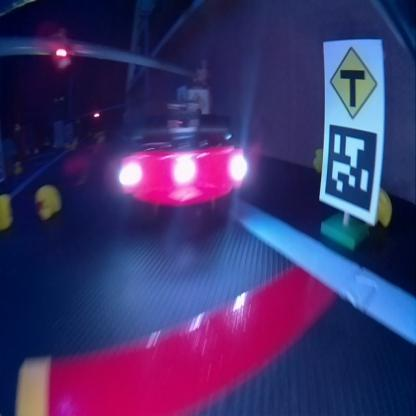duckie: (27, 178, 73, 228)
duckiebot: (107, 107, 258, 244)
